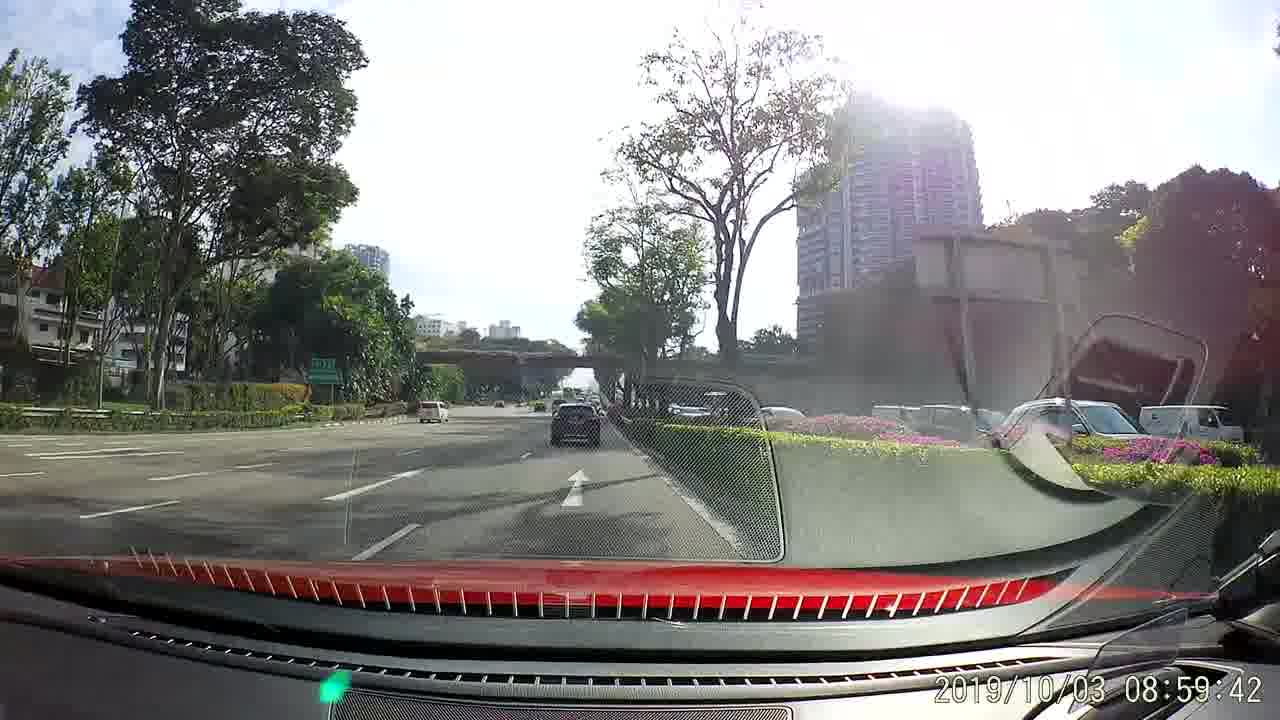car: (996, 395, 1164, 452), (549, 398, 603, 450), (416, 398, 450, 423), (534, 400, 545, 413)
